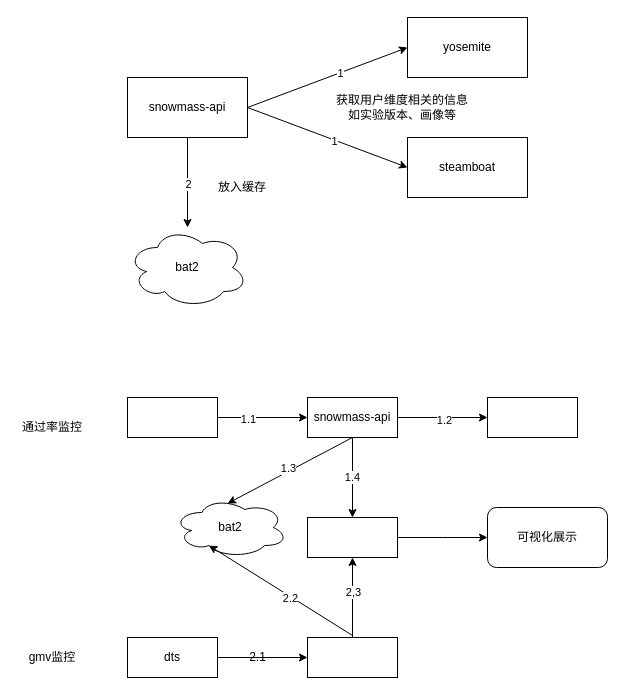
Some shapes in this 625 by 695 pixel diagram are drawn without their labels. The shapes that lost their labels are listed below. From the top down, each one's box as (x1, y1, x2, y2) in pixels, then its label:
(126, 396, 218, 438): 支付业务
(486, 396, 578, 438): steamboat-api
(306, 516, 398, 558): monitor
(306, 636, 398, 678): steamboat-task
